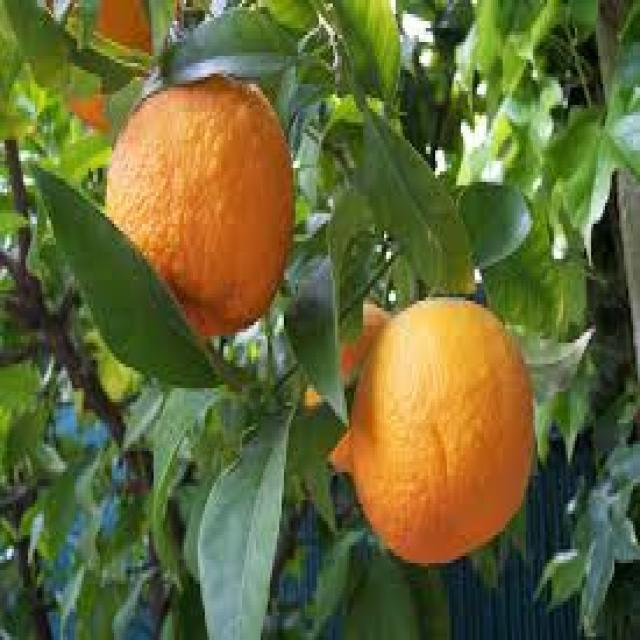Orange: (102, 70, 296, 336), (347, 294, 536, 564)
